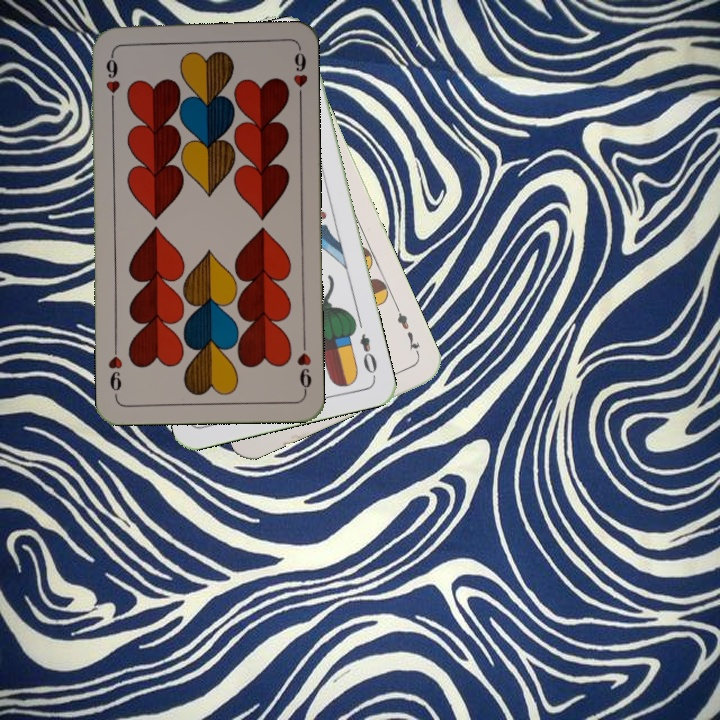E7: (392, 303, 423, 359)
EO: (355, 329, 380, 380)
H9: (101, 50, 123, 109), (293, 337, 314, 396)
